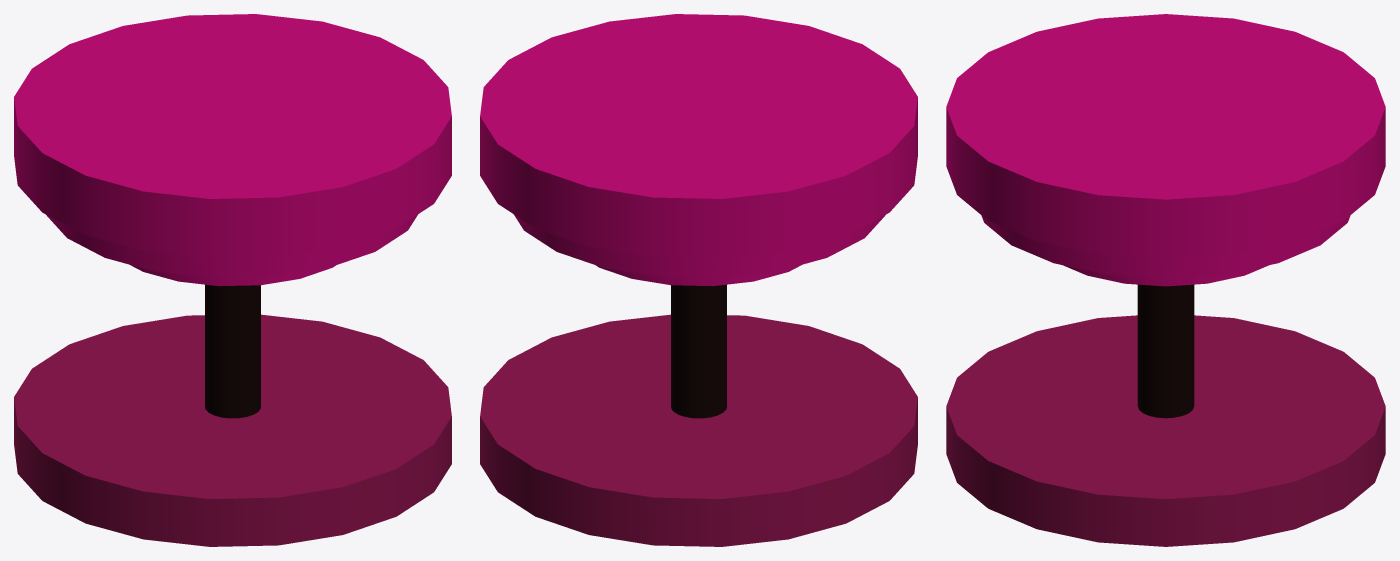
The model's file is Chair .fbx.
The picture shows the model from 3 angles, left to right: view 1: azimuth 30°, elevation 25°; view 2: azimuth 150°, elevation 25°; view 3: azimuth 270°, elevation 25°; orthographic projection.
Parts seen in each view (by area): view 1: Cylinder, Base, bar, Cylinder__1_, Cylinder__2_; view 2: Cylinder, Base, bar, Cylinder__1_, Cylinder__2_; view 3: Cylinder, Base, bar, Cylinder__1_, Cylinder__2_.
Part boxes in pixels (box(x1,y1,x2,y2)): Cylinder: box(14, 14, 451, 258); Base: box(14, 314, 451, 546); bar: box(205, 284, 260, 418); Cylinder__1_: box(46, 214, 417, 278); Cylinder__2_: box(130, 265, 335, 286); Cylinder: box(480, 14, 917, 258); Base: box(480, 314, 917, 546); bar: box(671, 284, 726, 418); Cylinder__1_: box(514, 214, 885, 278); Cylinder__2_: box(596, 265, 801, 286); Cylinder: box(946, 14, 1385, 258); Base: box(946, 315, 1385, 546); bar: box(1137, 284, 1194, 418); Cylinder__1_: box(981, 215, 1350, 278); Cylinder__2_: box(1063, 265, 1268, 286).
Size of the model in its own units: 100 by 87.37 by 100.
